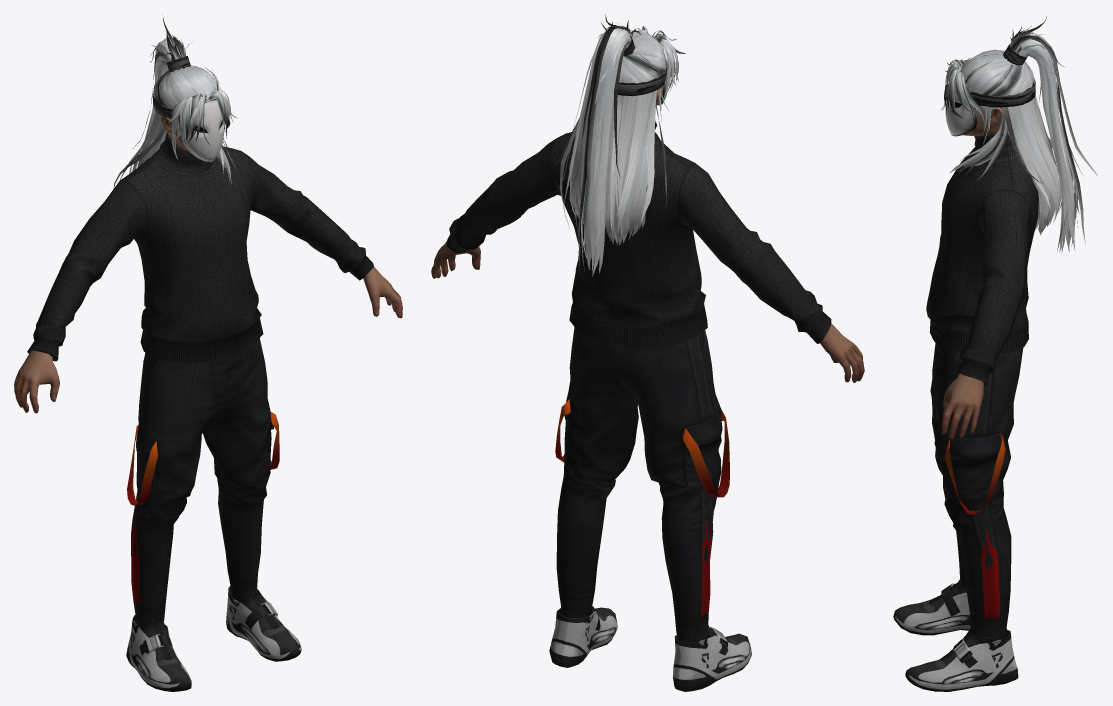
File: jinx.glb
3 views of the same model, side by side, from view 1: azimuth 30°, elevation 25°; view 2: azimuth 150°, elevation 25°; view 3: azimuth 270°, elevation 25° (orthographic). The views are drawn at different scales.
Parts seen in each view (by area): view 1: jinx; view 2: jinx; view 3: jinx.
Part boxes in pixels (x1,y1,x2,y2): jinx: (14, 17, 402, 691); jinx: (431, 14, 864, 691); jinx: (893, 16, 1097, 691).
Size of the model in its own units: 0.6271 by 0.9713 by 0.2818.
Materials: 6 (6 with a texture image).
